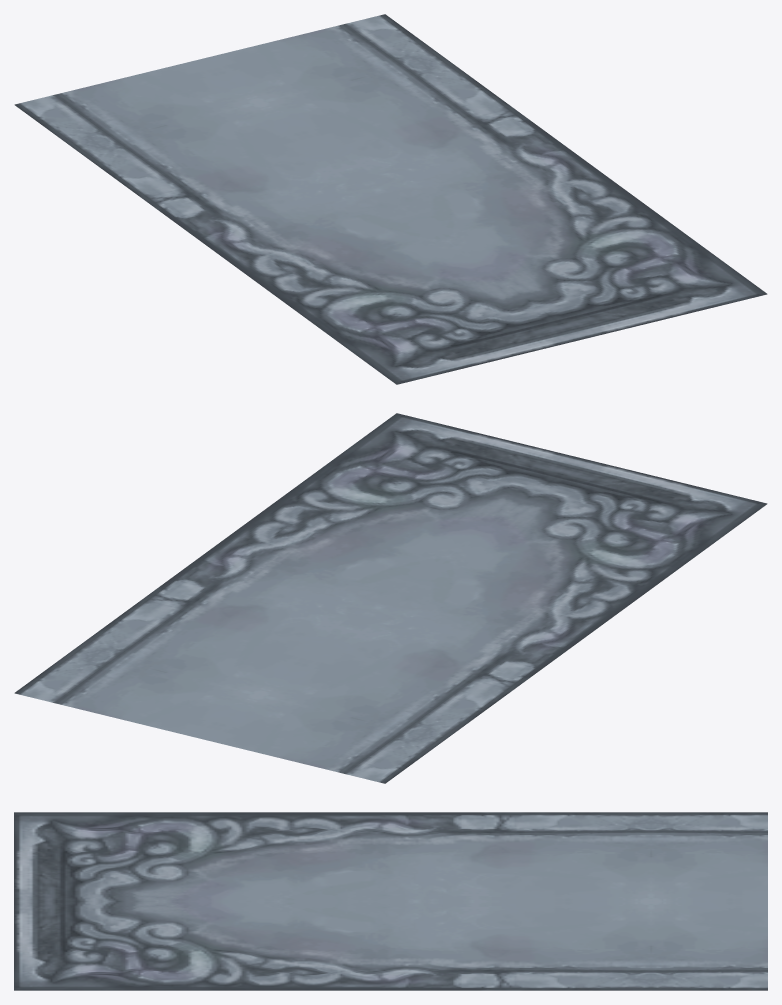
The model's file is floor_05.FBX.
The picture shows the model from 3 angles, top to bottom: view 1: azimuth 30°, elevation 25°; view 2: azimuth 150°, elevation 25°; view 3: azimuth 270°, elevation 25°; orthographic projection.
Parts seen in each view (by area): view 1: 52056_01; view 2: 52056_01; view 3: 52056_01.
Part boxes in pixels (bbox=[...]): 52056_01: bbox=[14, 14, 767, 384]; 52056_01: bbox=[14, 413, 767, 783]; 52056_01: bbox=[14, 812, 767, 990].
Size of the model in its own units: 177 by 8.95e-14 by 316.
